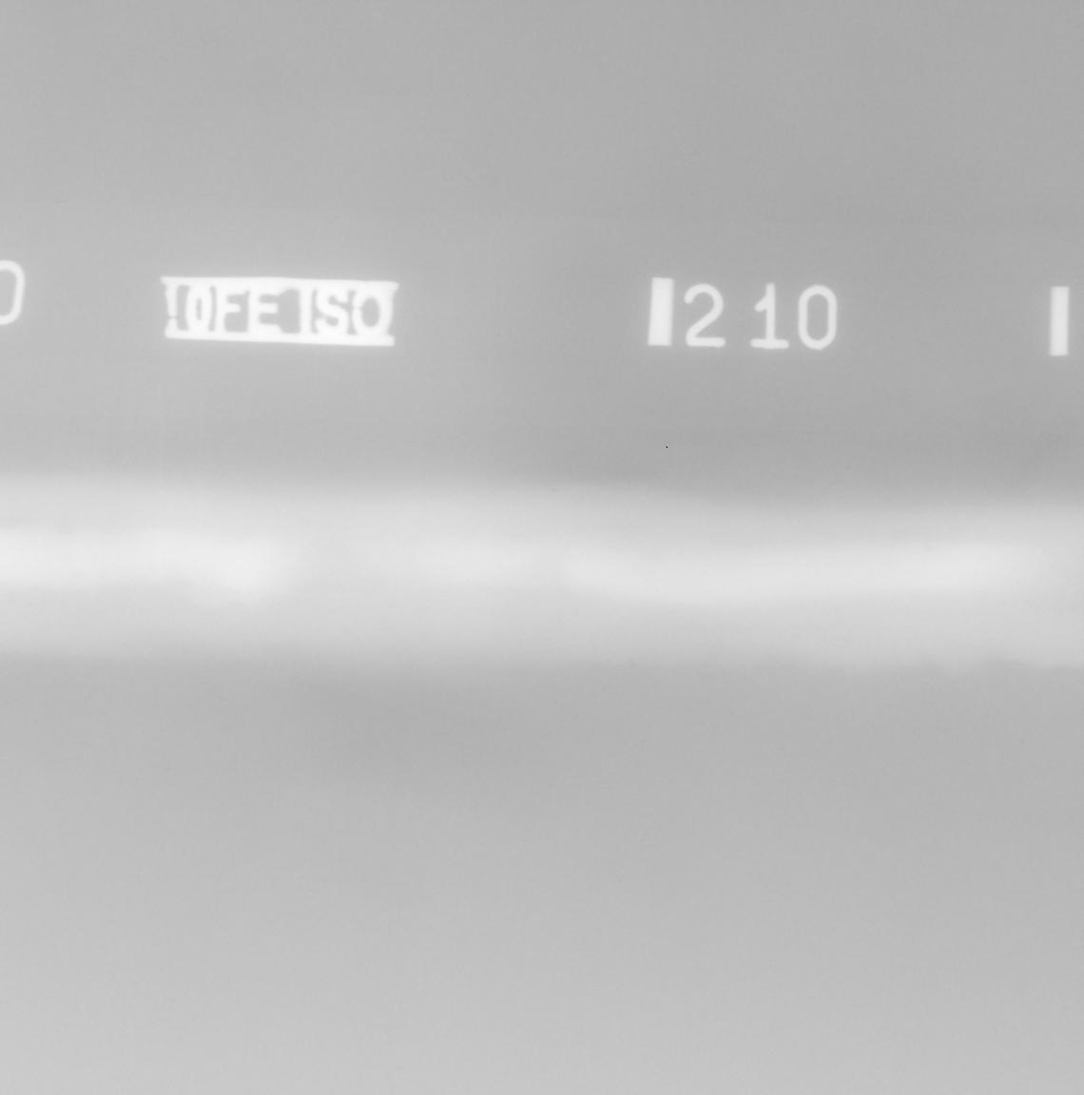Pore/Porosity: (923, 544, 933, 552), (551, 488, 558, 493), (843, 639, 846, 642)
